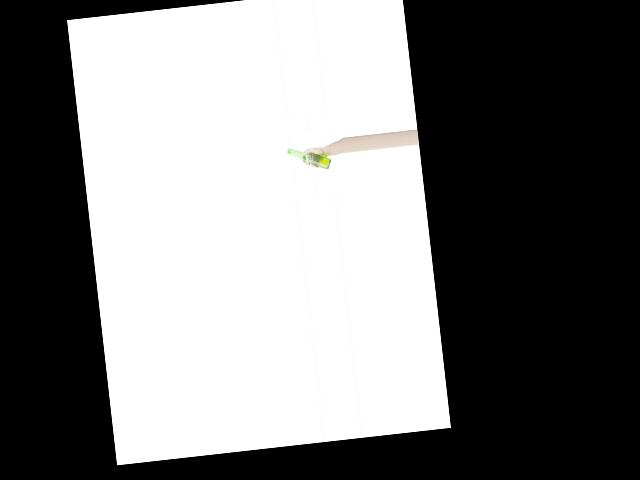beer: (286, 143, 331, 173)
